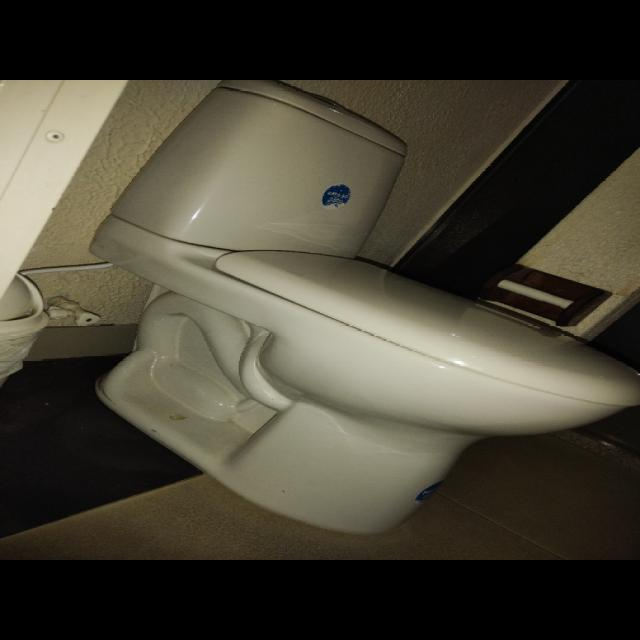toilet: (88, 79, 638, 535)
